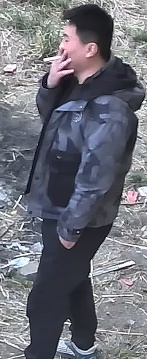smoking: (28, 30, 90, 126)
